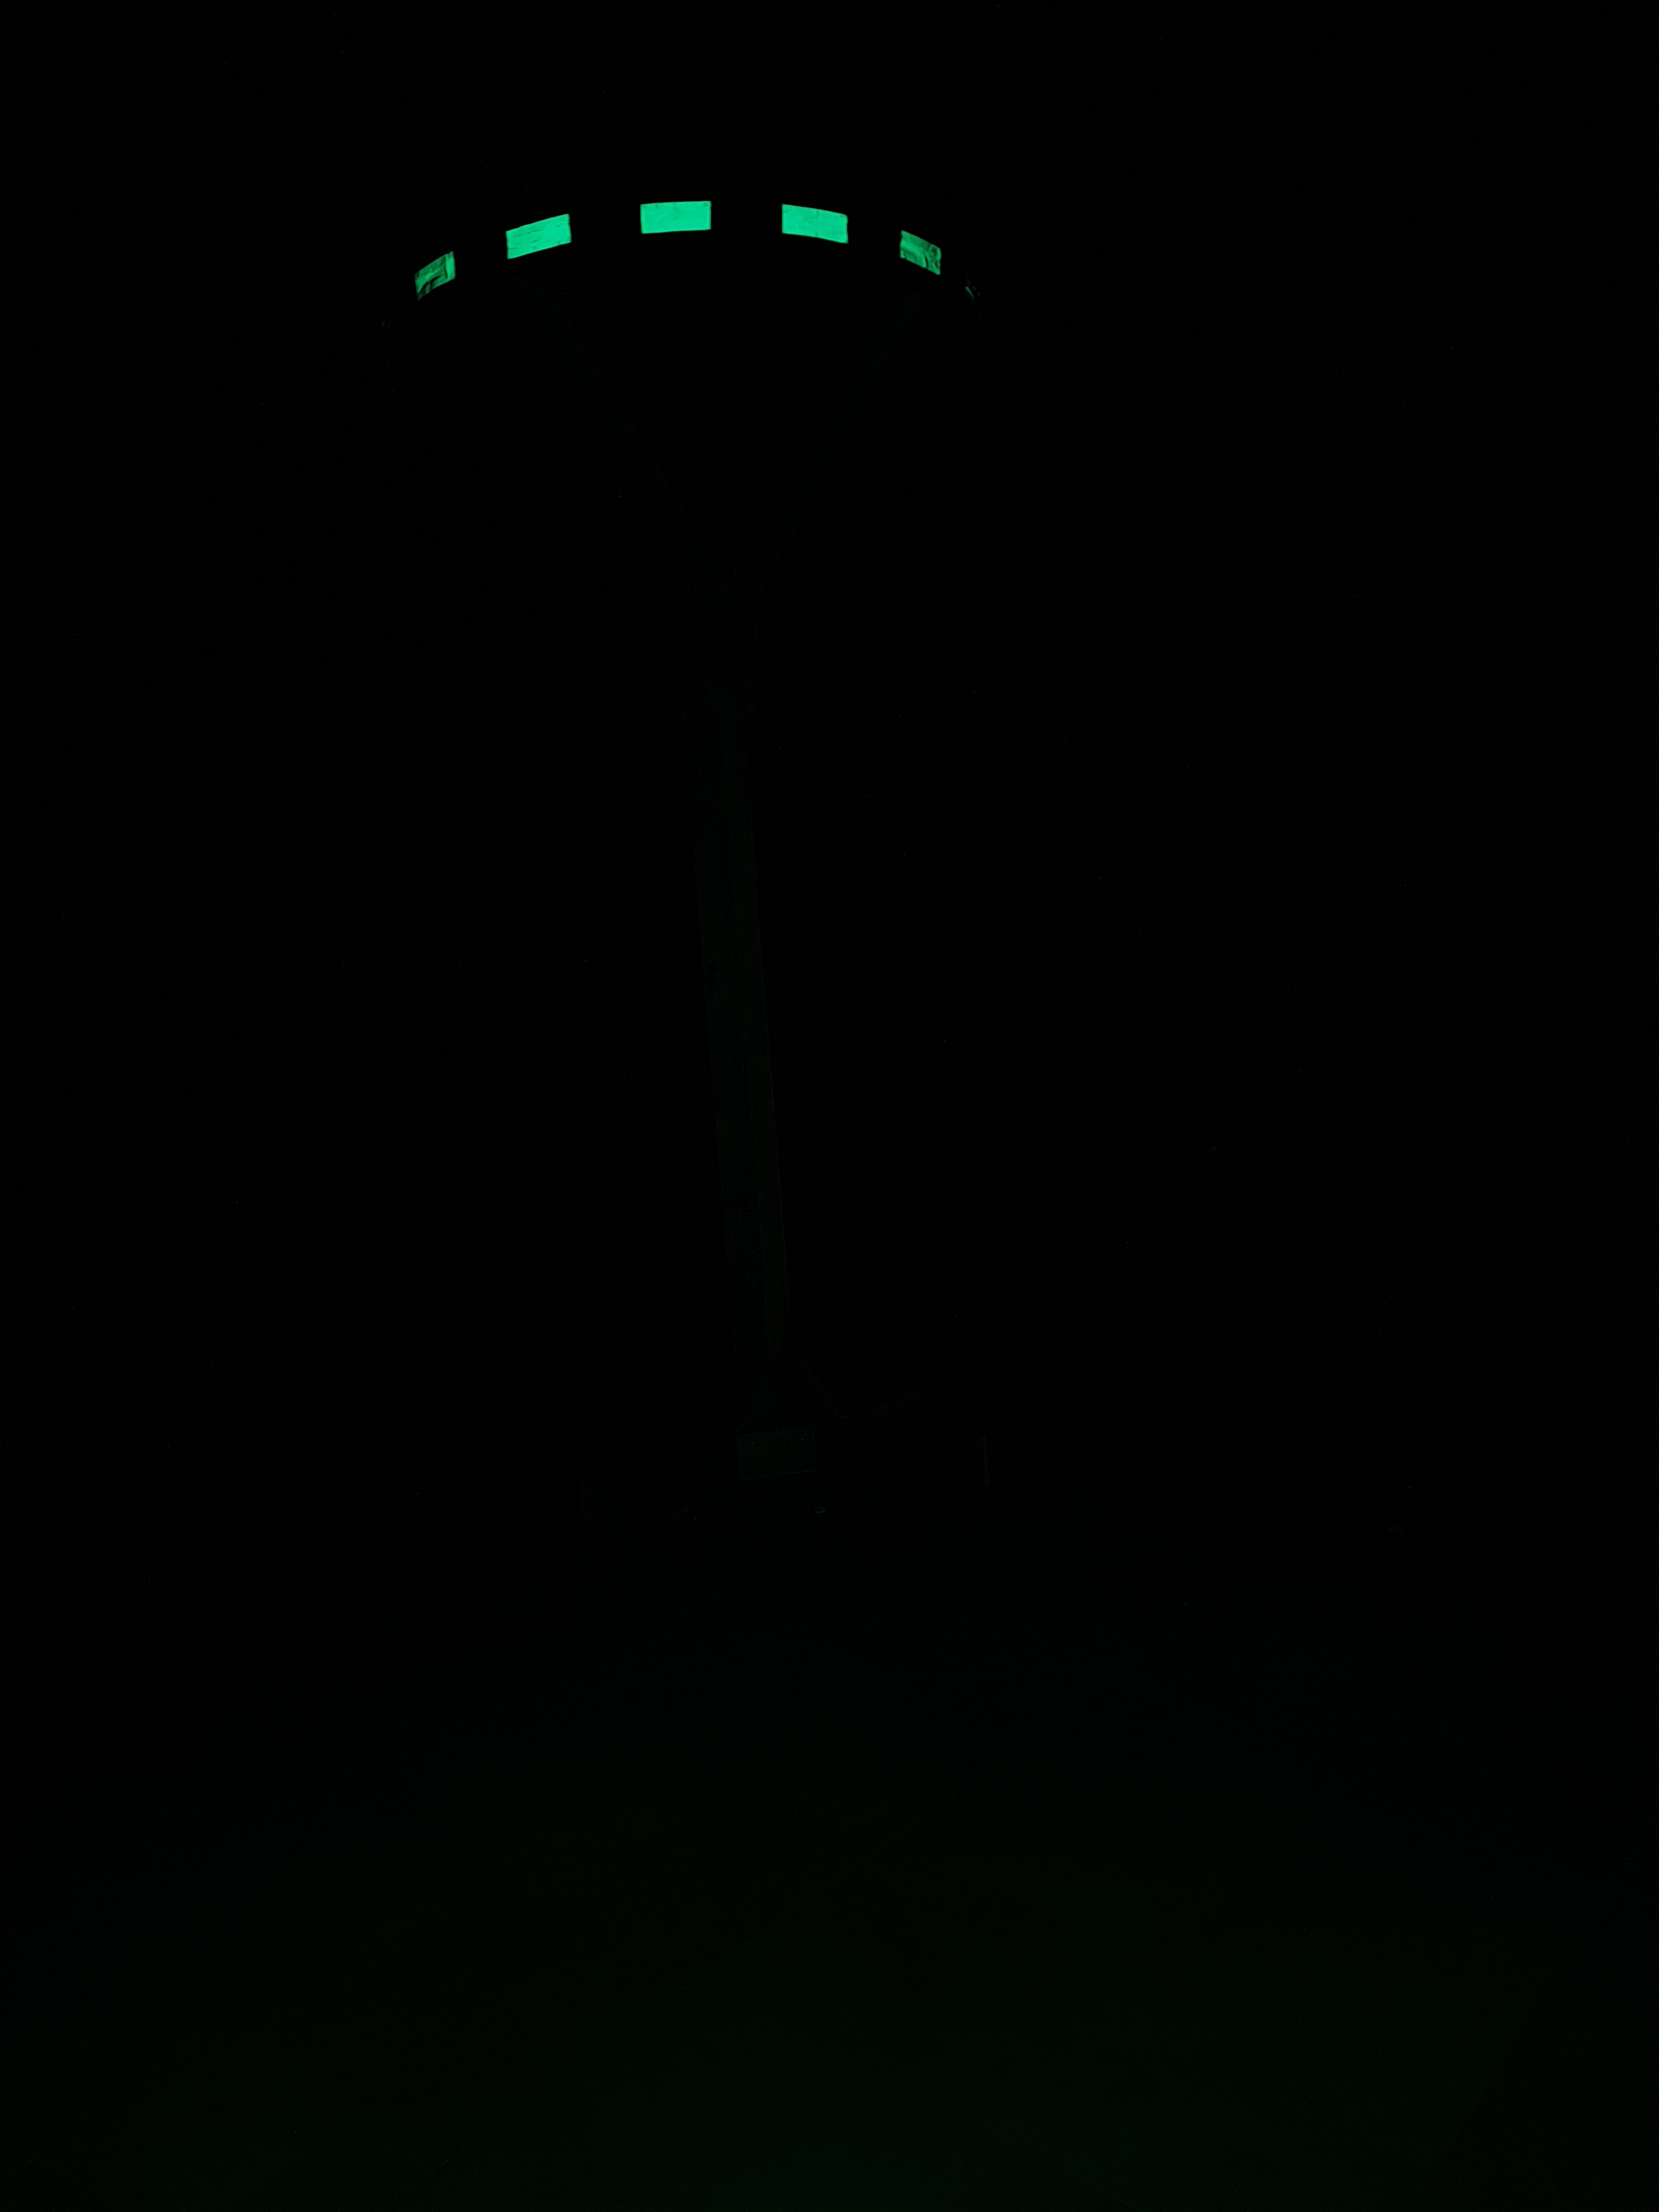hoop: (415, 199, 943, 305)
